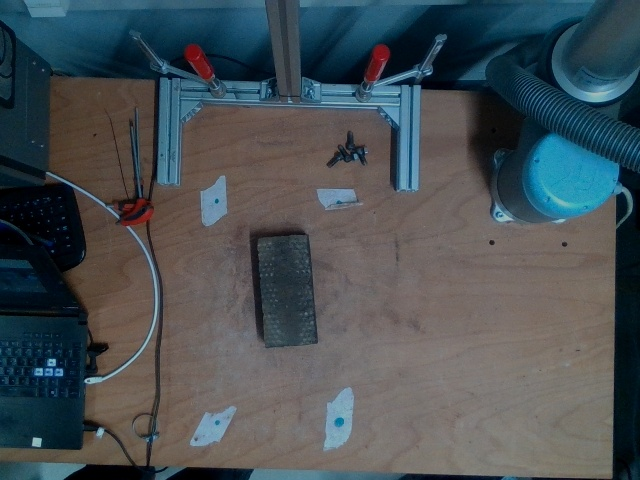brick: (252, 231, 317, 350)
